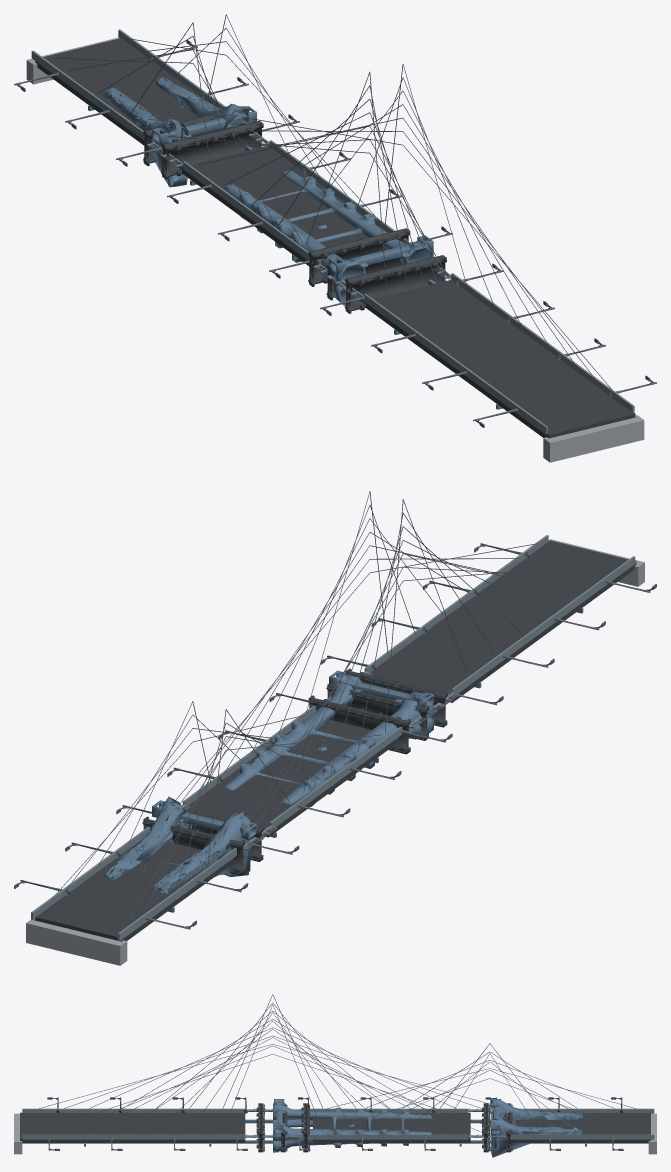
The model's file is MandelaBridge_Complete_LOD0.fbx.
The picture shows the model from 3 angles, top to bottom: view 1: azimuth 30°, elevation 25°; view 2: azimuth 150°, elevation 25°; view 3: azimuth 270°, elevation 25°; orthographic projection. The views are drawn at different scales.
Visible parts, largest first — view 1: MandelaBridge_MainPylon, MandelaBridge_SecondaryPylon, MandelaBridge_Deck_21, MandelaBridge_Deck_11, MandelaBridge_Abutment_Start, MandelaBridge_Deck_01_Mobile, MandelaBridge_Deck_13, MandelaBridge_Deck_04_Mobile, MandelaBridge_Deck_09_Mobile, MandelaBridge_Deck_06_Mobile, MandelaBridge_Deck_07_Mobile, MandelaBridge_Deck_10_Mobile (+17 smaller); view 2: MandelaBridge_MainPylon, MandelaBridge_SecondaryPylon, MandelaBridge_Abutment_End, MandelaBridge_Deck_28_Mobile, MandelaBridge_Deck_13, MandelaBridge_Deck_09_Mobile, MandelaBridge_Deck_08_Mobile, MandelaBridge_Deck_26_Mobile, MandelaBridge_Deck_01_Mobile, MandelaBridge_Deck_06_Mobile, MandelaBridge_Deck_04_Mobile, MandelaBridge_Deck_27_Mobile (+20 smaller); view 3: MandelaBridge_MainPylon, MandelaBridge_SecondaryPylon, MandelaBridge_Deck_06_Mobile, MandelaBridge_Deck_08_Mobile, MandelaBridge_Deck_10_Mobile, MandelaBridge_UndersideBeam_R, MandelaBridge_Deck_01_Mobile, MandelaBridge_Deck_20_Mobile, MandelaBridge_Deck_03_Mobile, MandelaBridge_Deck_09_Mobile, MandelaBridge_Deck_26_Mobile, MandelaBridge_Deck_04_Mobile (+20 smaller).
Boxes of the visible parts, box(x1,y1,x2,y2) form: MandelaBridge_MainPylon: box(224, 170, 433, 306); MandelaBridge_SecondaryPylon: box(103, 75, 249, 187); MandelaBridge_Deck_21: box(161, 120, 263, 179); MandelaBridge_Deck_11: box(344, 255, 446, 313); MandelaBridge_Abutment_Start: box(543, 415, 644, 462); MandelaBridge_Deck_01_Mobile: box(530, 401, 635, 438); MandelaBridge_Deck_13: box(308, 228, 410, 286); MandelaBridge_Deck_04_Mobile: box(475, 360, 579, 401); MandelaBridge_Deck_09_Mobile: box(384, 293, 487, 334); MandelaBridge_Deck_06_Mobile: box(439, 333, 542, 373); MandelaBridge_Deck_07_Mobile: box(420, 320, 524, 361); MandelaBridge_Deck_10_Mobile: box(365, 280, 468, 320); MandelaBridge_MainPylon: box(224, 674, 433, 806); MandelaBridge_SecondaryPylon: box(103, 796, 251, 893); MandelaBridge_Abutment_End: box(26, 919, 127, 965); MandelaBridge_Deck_28_Mobile: box(34, 903, 139, 941); MandelaBridge_Deck_13: box(308, 695, 410, 754); MandelaBridge_Deck_09_Mobile: box(385, 648, 488, 689); MandelaBridge_Deck_08_Mobile: box(404, 634, 507, 675); MandelaBridge_Deck_26_Mobile: box(73, 877, 176, 917); MandelaBridge_Deck_01_Mobile: box(532, 540, 636, 581); MandelaBridge_Deck_06_Mobile: box(440, 607, 544, 648); MandelaBridge_Deck_04_Mobile: box(478, 581, 580, 620); MandelaBridge_Deck_27_Mobile: box(54, 890, 158, 931); MandelaBridge_MainPylon: box(273, 1103, 431, 1152); MandelaBridge_SecondaryPylon: box(490, 1098, 582, 1157); MandelaBridge_Deck_06_Mobile: box(132, 1113, 155, 1142); MandelaBridge_Deck_08_Mobile: box(177, 1113, 200, 1142); MandelaBridge_Deck_10_Mobile: box(222, 1113, 245, 1142); MandelaBridge_UndersideBeam_R: box(22, 1140, 648, 1143); MandelaBridge_Deck_01_Mobile: box(20, 1112, 42, 1142); MandelaBridge_Deck_20_Mobile: box(448, 1112, 470, 1142); MandelaBridge_Deck_03_Mobile: box(65, 1113, 87, 1142); MandelaBridge_Deck_09_Mobile: box(200, 1113, 222, 1142); MandelaBridge_Deck_26_Mobile: box(583, 1113, 605, 1142); MandelaBridge_Deck_04_Mobile: box(87, 1113, 109, 1142).
Bounding box in the file's own units: 30 × 39.22 × 154.
